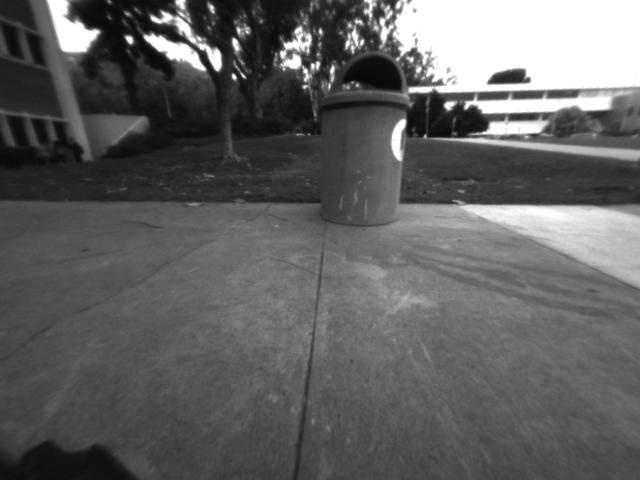trashcan: (315, 49, 417, 231)
